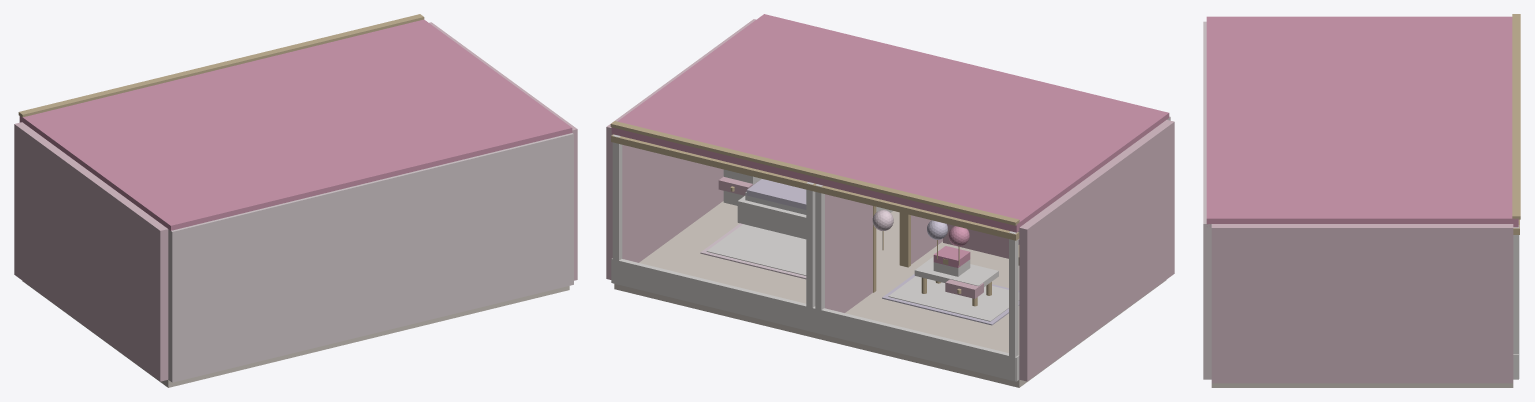
The model's file is house-basic.glb.
3 views of the same model, side by side, from view 1: azimuth 30°, elevation 25°; view 2: azimuth 150°, elevation 25°; view 3: azimuth 270°, elevation 25° (orthographic). The views are drawn at different scales.
Visible parts, largest first — view 1: WALL_BACK_01, ROOF_TRIM_01, WALL_BACK_02, ROOF_TRIM_02, WALL_LEFT_GROUND, ROOF_GOLD_LINE_01, ROOF_GOLD_LINE_02, FLOOR_01, WALL_RIGHT_GROUND, FLOOR_02; view 2: ROOF_TRIM_01, ROOF_TRIM_02, WALL_LEFT_GROUND, WALL_RIGHT_GROUND, FLOOR_02, FLOOR_01, FRONT_SILL_01, FRONT_SILL_02, PARTITION_GROUND_1_FRONT, RUG_BEDROOM_STRIPE, RUG_LIVING_STRIPE, DECOR_BED_PLATFORM (+18 smaller); view 3: WALL_RIGHT_GROUND, ROOF_TRIM_02, ROOF_TRIM_01, WALL_BACK_02, FLOOR_02, ROOF_GOLD_LINE_02, ROOF_GOLD_LINE_01, FRONT_COLUMN_02_1, WALL_BACK_01.
Boxes of the visible parts, box(x1,y1,x2,y2) form: WALL_BACK_01: box(168, 182, 372, 382); ROOF_TRIM_01: box(19, 68, 371, 230); WALL_BACK_02: box(372, 133, 573, 333); ROOF_TRIM_02: box(224, 19, 572, 181); WALL_LEFT_GROUND: box(14, 122, 168, 381); ROOF_GOLD_LINE_01: box(18, 63, 223, 117); ROOF_GOLD_LINE_02: box(220, 14, 424, 68); FLOOR_01: box(22, 281, 368, 387); WALL_RIGHT_GROUND: box(429, 22, 577, 280); FLOOR_02: box(369, 286, 569, 338); ROOF_TRIM_01: box(814, 63, 1169, 232); ROOF_TRIM_02: box(611, 14, 966, 182); WALL_LEFT_GROUND: box(1019, 120, 1174, 381); WALL_RIGHT_GROUND: box(606, 19, 755, 279); FLOOR_02: box(614, 201, 903, 338); FLOOR_01: box(816, 241, 1166, 387); FRONT_SILL_01: box(814, 308, 1019, 381); FRONT_SILL_02: box(611, 258, 815, 332); PARTITION_GROUND_1_FRONT: box(825, 194, 872, 312); RUG_BEDROOM_STRIPE: box(706, 224, 806, 275); RUG_LIVING_STRIPE: box(888, 276, 1019, 321); DECOR_BED_PLATFORM: box(737, 196, 892, 239); WALL_RIGHT_GROUND: box(1211, 224, 1513, 383); ROOF_TRIM_02: box(1206, 117, 1518, 227); ROOF_TRIM_01: box(1206, 16, 1512, 117); WALL_BACK_02: box(1203, 123, 1211, 379); FLOOR_02: box(1211, 383, 1513, 387); ROOF_GOLD_LINE_02: box(1512, 115, 1520, 219); ROOF_GOLD_LINE_01: box(1512, 14, 1520, 114); FRONT_COLUMN_02_1: box(1513, 225, 1519, 378); WALL_BACK_01: box(1203, 21, 1206, 122).
Size of the model in its own units: 9.56 by 3.64 by 6.1.
